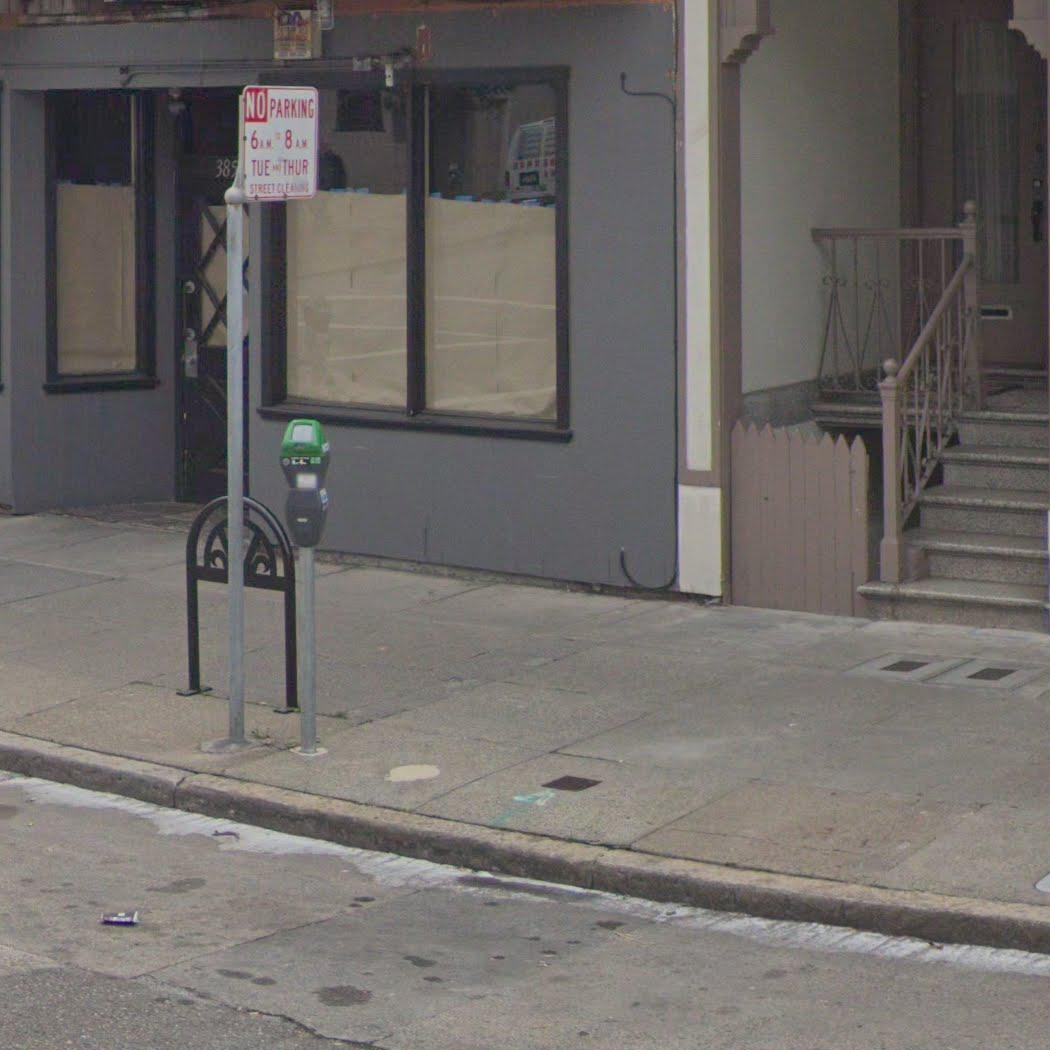No Parking: (239, 82, 321, 204)
